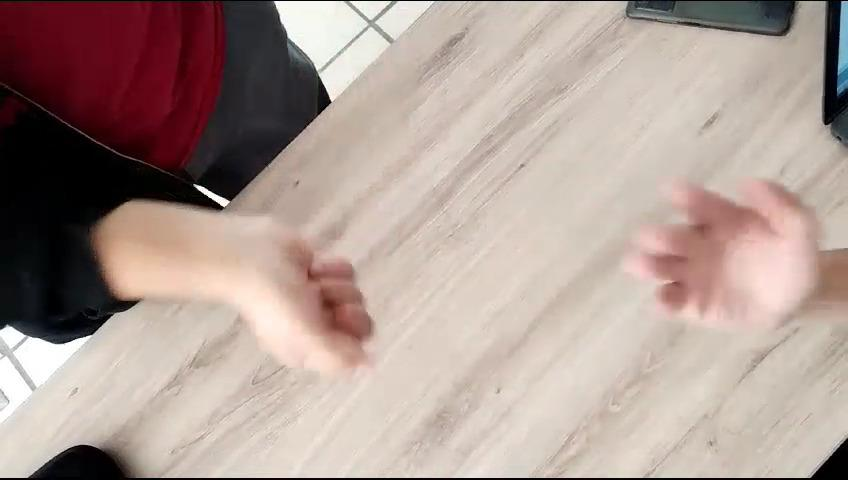Paper: (615, 152, 828, 356)
Stone: (216, 196, 393, 387)
